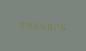eight: (17, 18, 23, 29)
nine: (24, 18, 30, 30)
six: (38, 19, 44, 31), (31, 19, 37, 30), (59, 21, 65, 32)
two: (52, 20, 58, 32)
zero: (45, 20, 51, 31)
